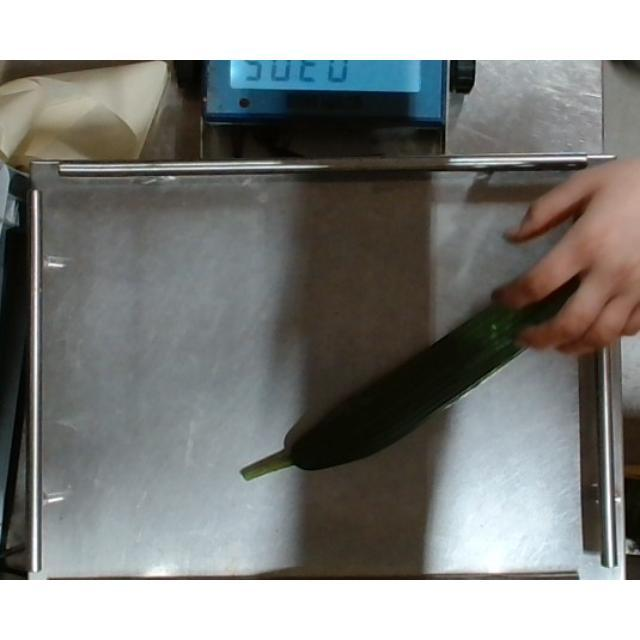cucumber: (241, 278, 554, 482)
